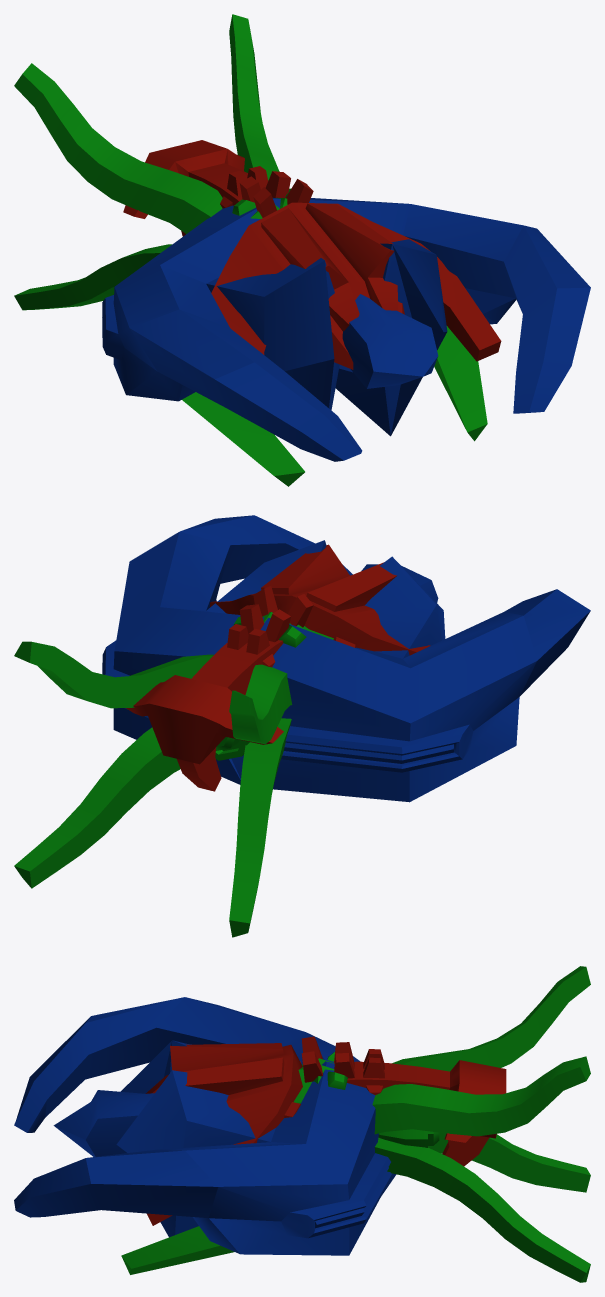
File: SHIP_ENEMY_P1.fbx
The picture shows the model from 3 angles, top to bottom: view 1: azimuth 30°, elevation 25°; view 2: azimuth 150°, elevation 25°; view 3: azimuth 270°, elevation 25°; orthographic projection. The views are drawn at different scales.
Parts seen in each view (by area): view 1: Enemy02, Enemy01, Enemy03; view 2: Enemy02, Enemy01, Enemy03; view 3: Enemy02, Enemy01, Enemy03.
Part boxes in pixels (bbox=[...]): Enemy02: bbox=[102, 198, 590, 461]; Enemy01: bbox=[14, 14, 487, 486]; Enemy03: bbox=[123, 140, 501, 369]; Enemy02: bbox=[102, 515, 590, 802]; Enemy01: bbox=[14, 612, 333, 937]; Enemy03: bbox=[126, 544, 430, 791]; Enemy02: bbox=[14, 997, 396, 1255]; Enemy01: bbox=[121, 966, 590, 1282]; Enemy03: bbox=[145, 1036, 506, 1225].
Size of the model in its own units: 476 by 275 by 638.
